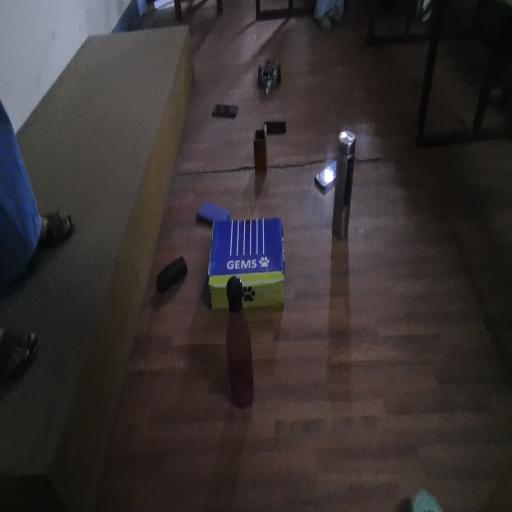Bottle: (216, 270, 266, 418)
car: (255, 45, 288, 107)
